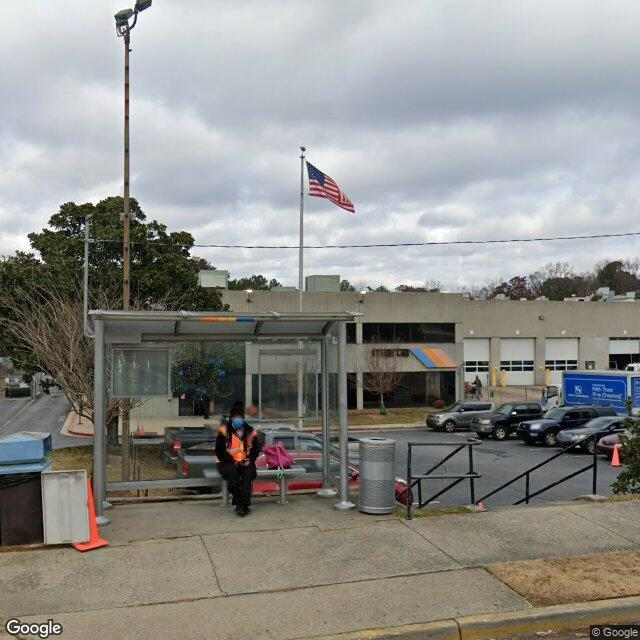seating: (198, 466, 312, 508)
shelter: (87, 310, 366, 525)
trash_can: (0, 430, 51, 547), (358, 436, 396, 514)
